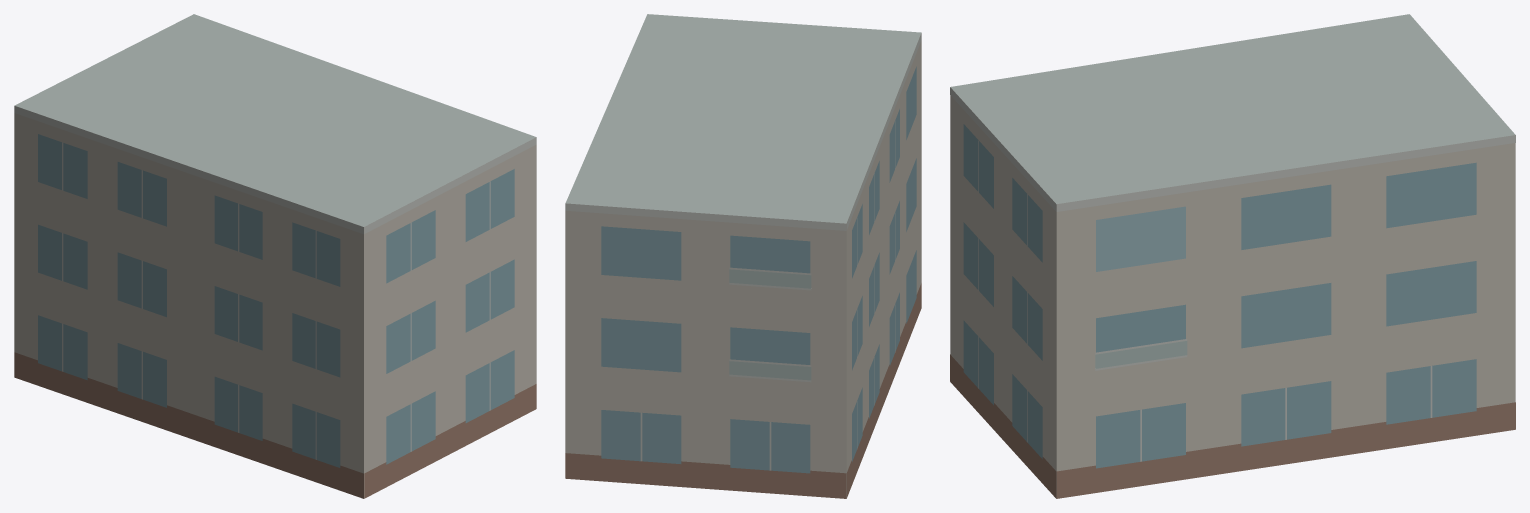
The model's file is survey-upis-32913382.glb.
3 views of the same model, side by side, from view 1: azimuth 30°, elevation 25°; view 2: azimuth 150°, elevation 25°; view 3: azimuth 270°, elevation 25° (orthographic). The views are drawn at different scales.
Visible parts, largest first — view 1: survey-upis-32913382.tmp; view 2: survey-upis-32913382.tmp; view 3: survey-upis-32913382.tmp.
Part boxes in pixels (box(x1,y1,x2,y2)): survey-upis-32913382.tmp: box(14, 14, 536, 498); survey-upis-32913382.tmp: box(565, 14, 921, 498); survey-upis-32913382.tmp: box(950, 14, 1515, 498).
Size of the model in its own units: 12.68 by 9.15 by 15.93.
